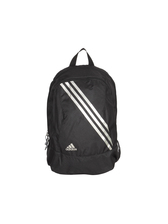bag: (31, 39, 130, 179)
